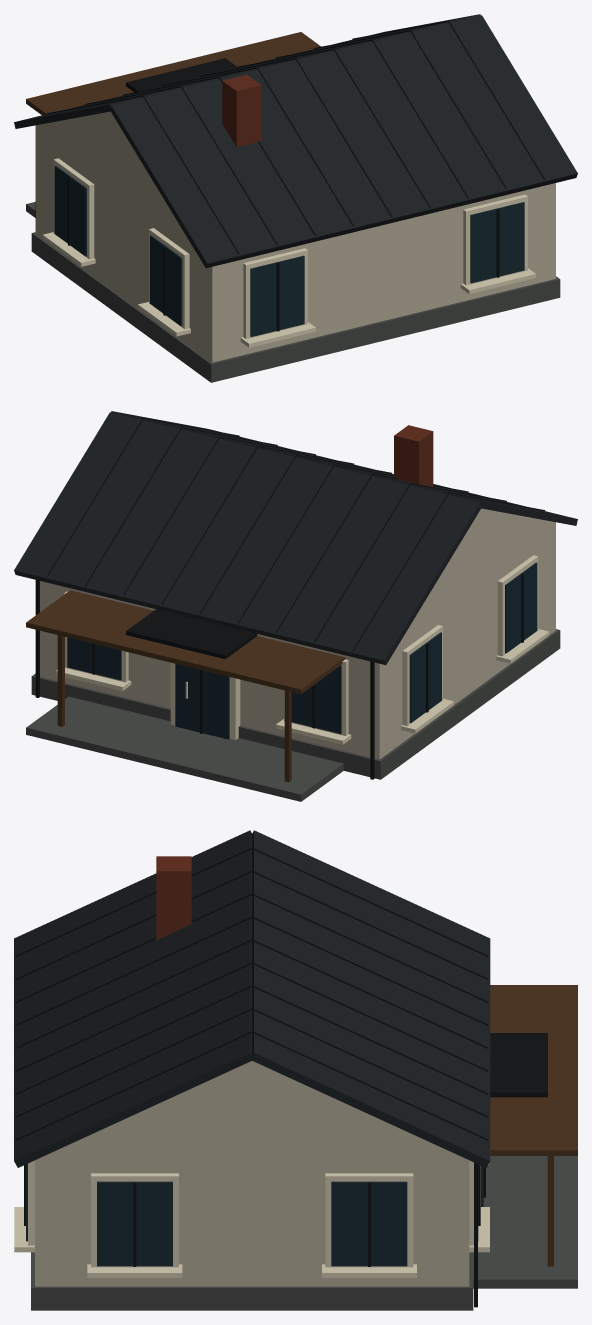
File: 07_Bungalow.obj
The picture shows the model from 3 angles, top to bottom: view 1: azimuth 30°, elevation 25°; view 2: azimuth 150°, elevation 25°; view 3: azimuth 270°, elevation 25°; orthographic projection. The views are drawn at different scales.
Parts seen in each view (by area): view 1: Roof, Plaster, Glass, Base, Trim, Metal, Wood, Brick; view 2: Roof, Plaster, Base, Wood, Glass, Metal, Trim, Brick; view 3: Roof, Plaster, Base, Metal, Glass, Wood, Trim, Brick.
Part boxes in pixels (x1=…): Roof: x1=14, y1=14, x2=577, y2=268; Plaster: x1=36, y1=111, x2=555, y2=362; Glass: x1=54, y1=165, x2=524, y2=336; Base: x1=26, y1=202, x2=560, y2=382; Trim: x1=42, y1=158, x2=535, y2=347; Metal: x1=35, y1=21, x2=545, y2=331; Wood: x1=26, y1=32, x2=320, y2=115; Brick: x1=222, y1=74, x2=261, y2=147; Roof: x1=14, y1=411, x2=577, y2=665; Plaster: x1=40, y1=508, x2=555, y2=759; Base: x1=26, y1=629, x2=560, y2=801; Wood: x1=26, y1=590, x2=345, y2=782; Glass: x1=67, y1=562, x2=537, y2=739; Metal: x1=35, y1=418, x2=545, y2=779; Trim: x1=56, y1=555, x2=549, y2=744; Brick: x1=394, y1=425, x2=433, y2=486; Roof: x1=14, y1=830, x2=490, y2=1167; Plaster: x1=35, y1=1061, x2=469, y2=1286; Base: x1=31, y1=1156, x2=577, y2=1310; Metal: x1=15, y1=847, x2=547, y2=1307; Glass: x1=26, y1=1163, x2=483, y2=1266; Wood: x1=490, y1=985, x2=577, y2=1266; Trim: x1=14, y1=1160, x2=489, y2=1277; Brick: x1=156, y1=856, x2=191, y2=939.
Bounding box in the file's own units: 9.76 × 5.9 × 10.39.
